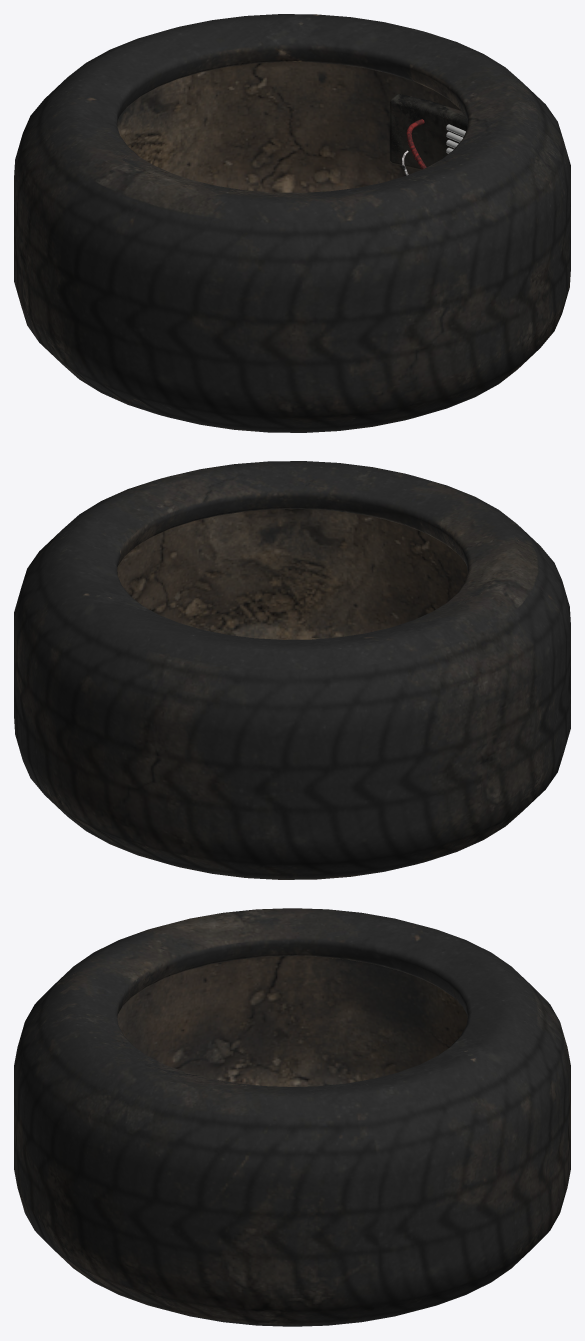
Rendered from IED_Tire-model.glb.
3 renders of one model, top to bottom at view 1: azimuth 30°, elevation 25°; view 2: azimuth 150°, elevation 25°; view 3: azimuth 270°, elevation 25°, orthographic.
Visible parts, largest first — view 1: Prop_IED_Tire; view 2: Prop_IED_Tire; view 3: Prop_IED_Tire.
Boxes of the visible parts, bbox=[...] form: Prop_IED_Tire: bbox=[14, 14, 570, 432]; Prop_IED_Tire: bbox=[14, 461, 570, 879]; Prop_IED_Tire: bbox=[14, 908, 570, 1326].
Size of the model in its own units: 83.01 by 37.52 by 83.01.
Materials: 1 (1 with a texture image).
